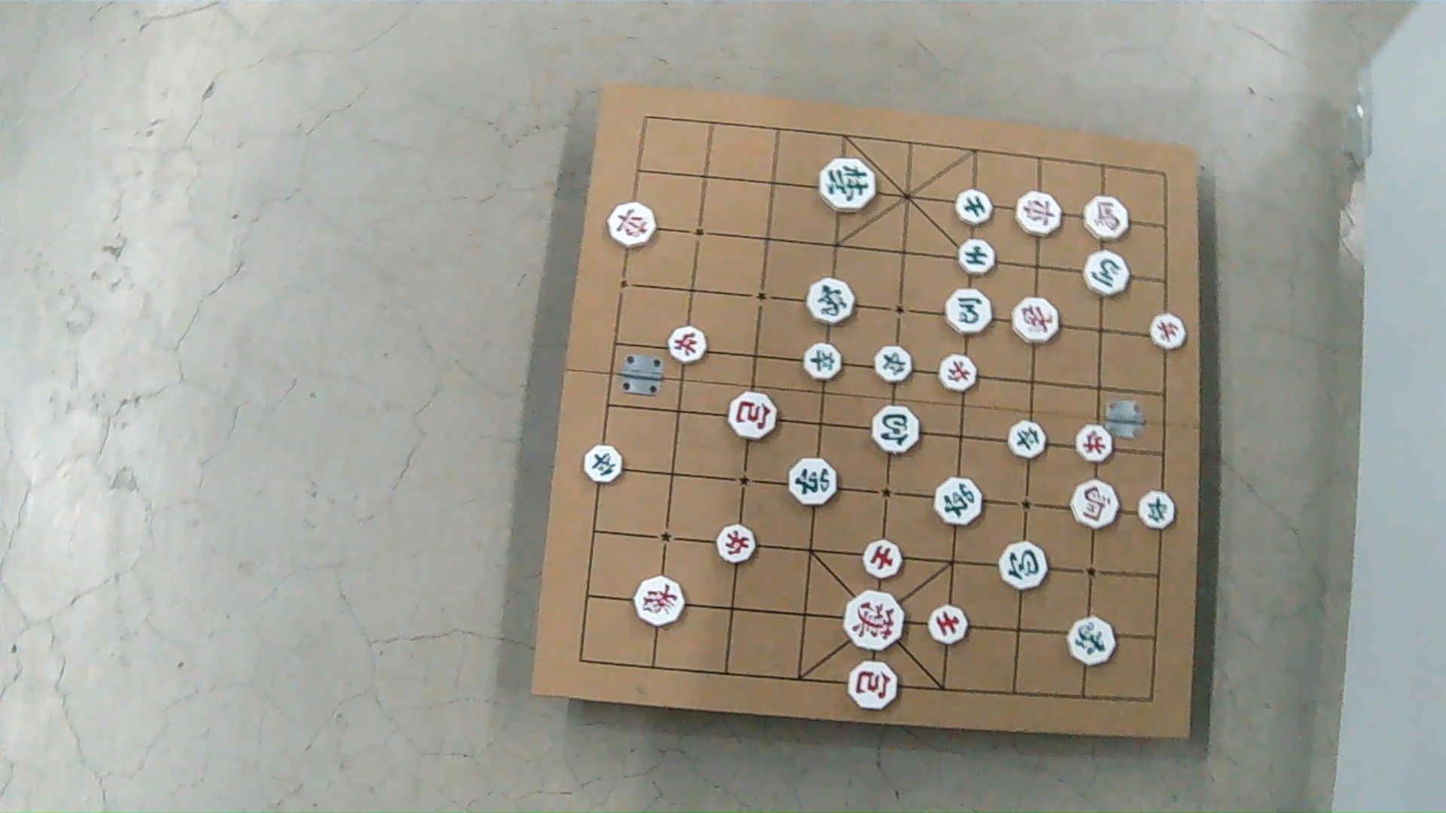cha_green: (935, 477, 983, 526), (788, 459, 837, 507)
cha_red: (609, 202, 657, 247), (1017, 193, 1063, 237)
jol_green: (1008, 422, 1047, 460), (585, 444, 624, 481), (875, 346, 912, 383), (1138, 491, 1174, 529), (804, 344, 843, 379)
jol_red: (718, 525, 756, 563), (668, 327, 707, 364), (1151, 312, 1188, 349), (939, 354, 977, 390), (1076, 425, 1112, 461)
ma_green: (946, 289, 993, 336), (1083, 251, 1131, 297)
ma_red: (1072, 480, 1119, 528), (1084, 196, 1132, 242)
po_green: (999, 540, 1048, 590), (870, 407, 918, 455)
po_red: (849, 662, 898, 710), (728, 392, 776, 440)
sa_green: (956, 238, 994, 274), (955, 190, 992, 226)
sa_red: (929, 604, 968, 644), (862, 539, 901, 579)
sang_green: (1068, 617, 1116, 665), (807, 276, 856, 323)
sang_red: (633, 575, 686, 626), (1011, 297, 1059, 343)
wang_green: (820, 158, 877, 212)
wang_red: (844, 590, 905, 650)
